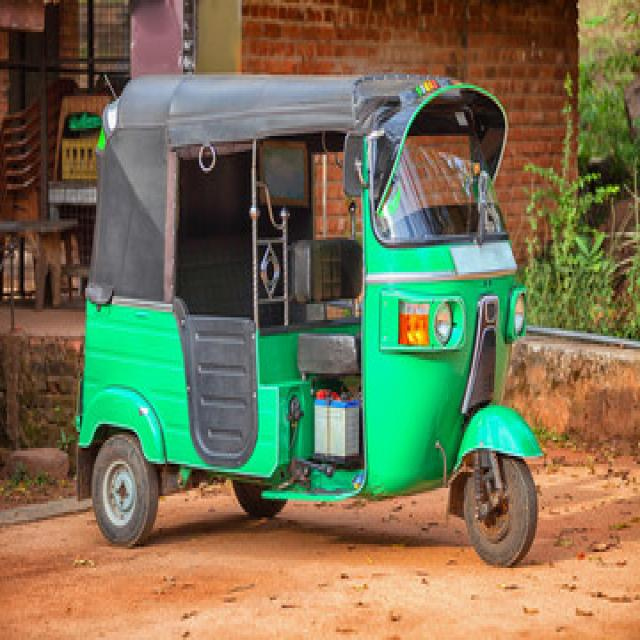three wheeler: (78, 75, 539, 563)
